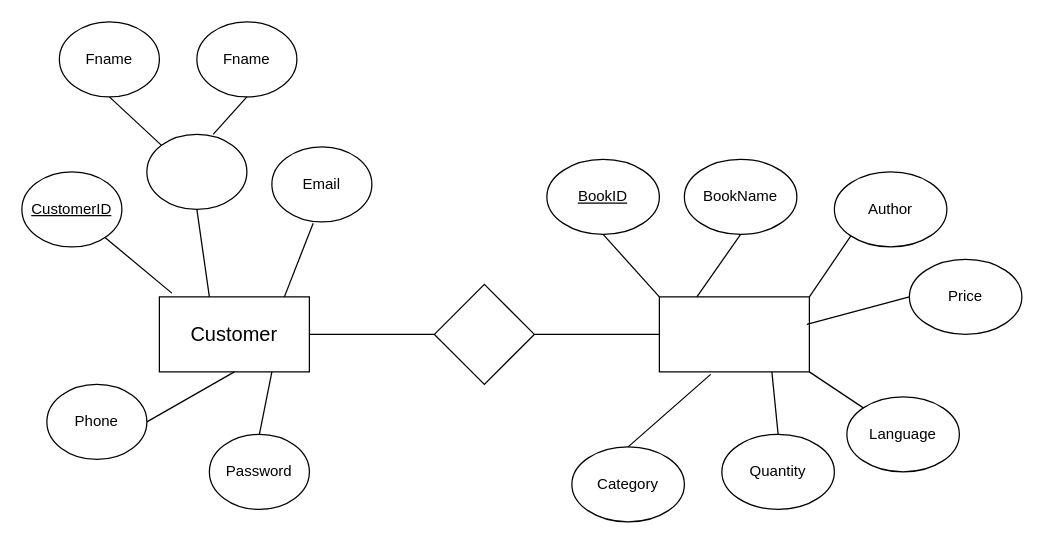
Image size: 1044x544. Some labels were removed from this diagram. Each missing label, with the centre of its shape:
"Book" belongs at (x=733, y=334).
"Buys" belongs at (x=483, y=333).
"Name" belongs at (x=196, y=171).
